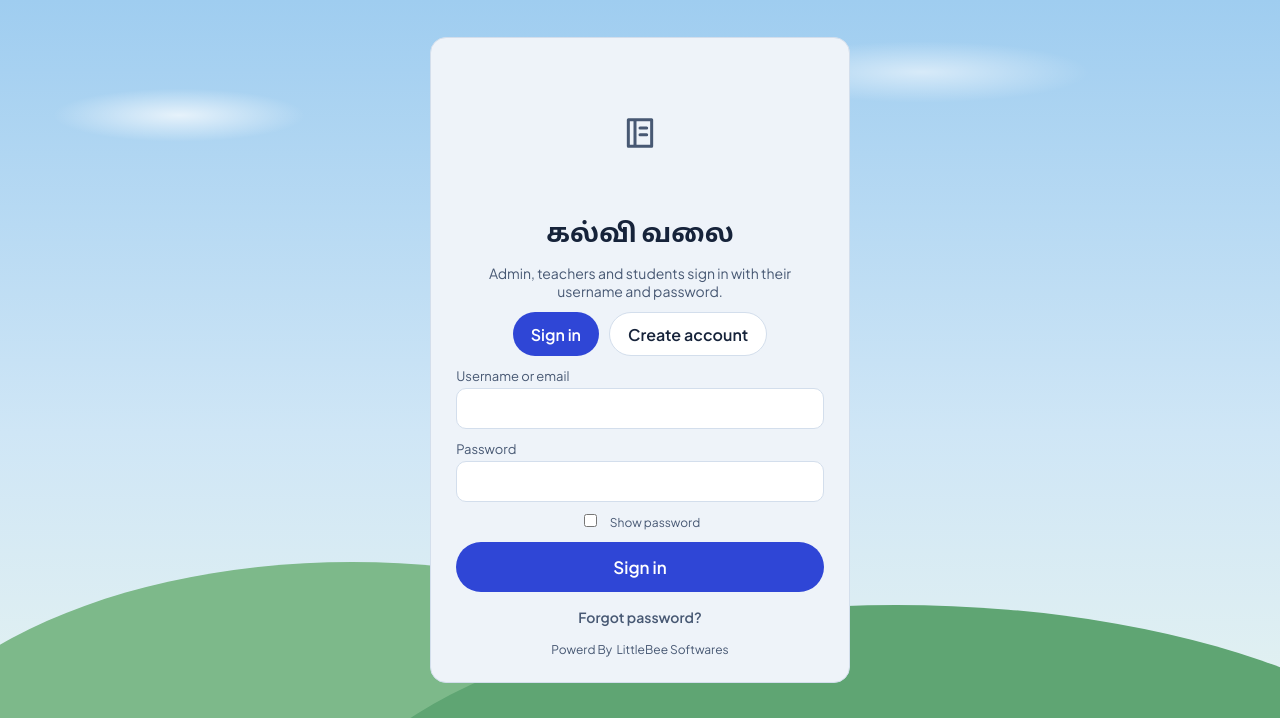
Test: auth and save behaviour › previews a saved student photo after the username is entered
In the field labelled "Username or email": x=640, y=408 [456, 388, 824, 429], type "1001"
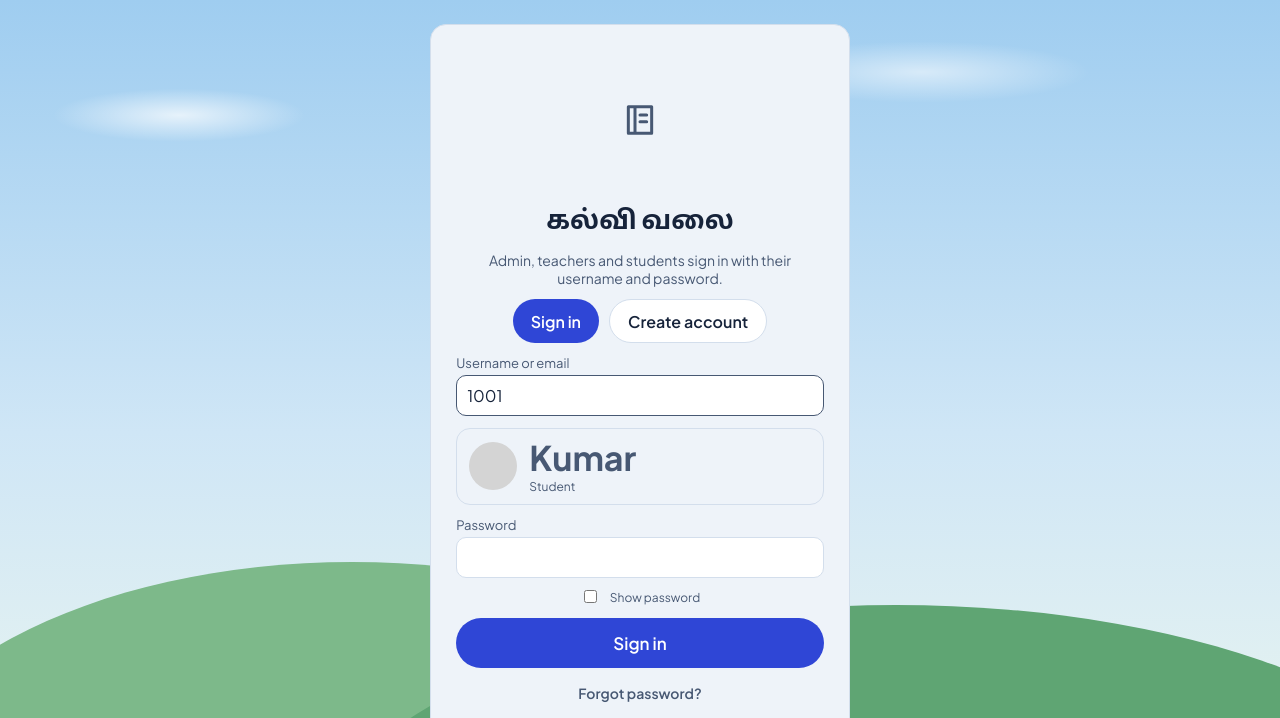
Result: the element with class "login-profile-preview" shows "Kumar" at [529, 436, 636, 479]
Result: the element with class "login-profile-preview" shows "Student" at [529, 479, 575, 494]
